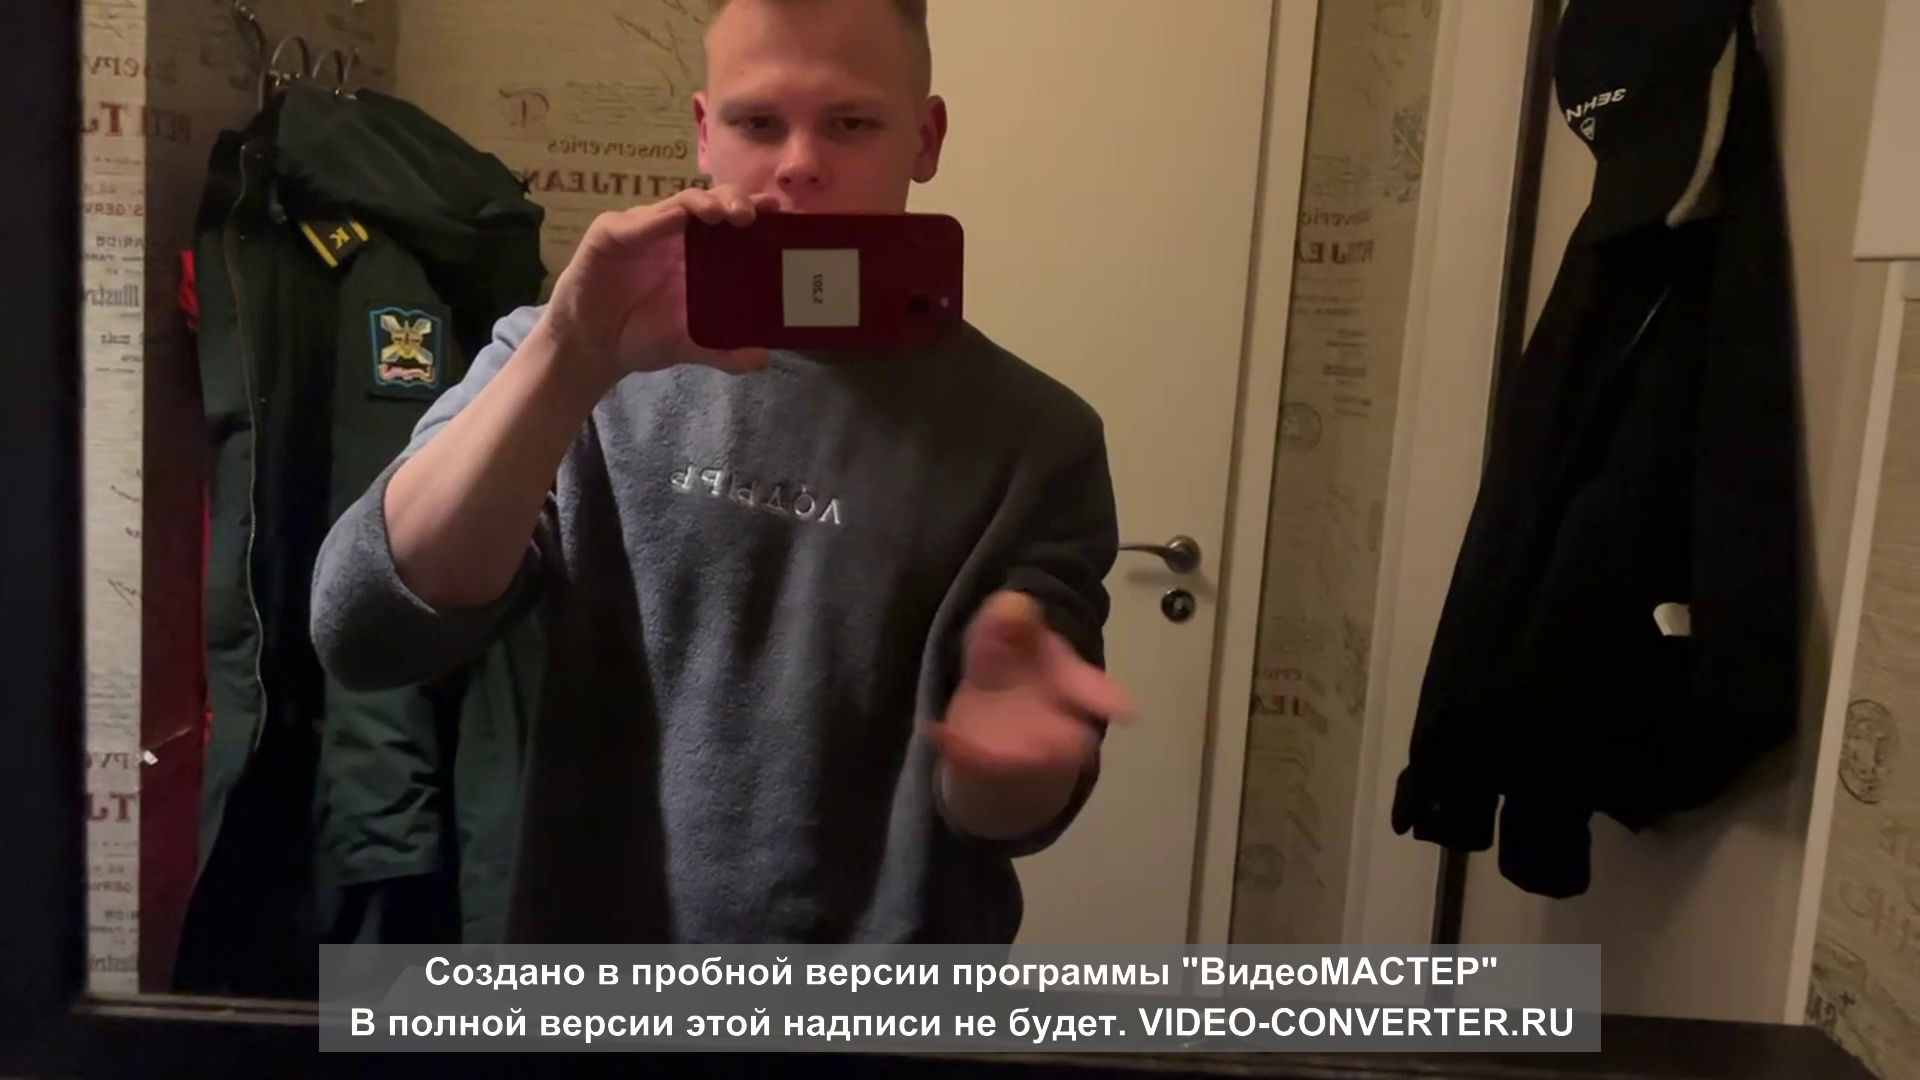Ладонь: (924, 591, 1134, 775)
